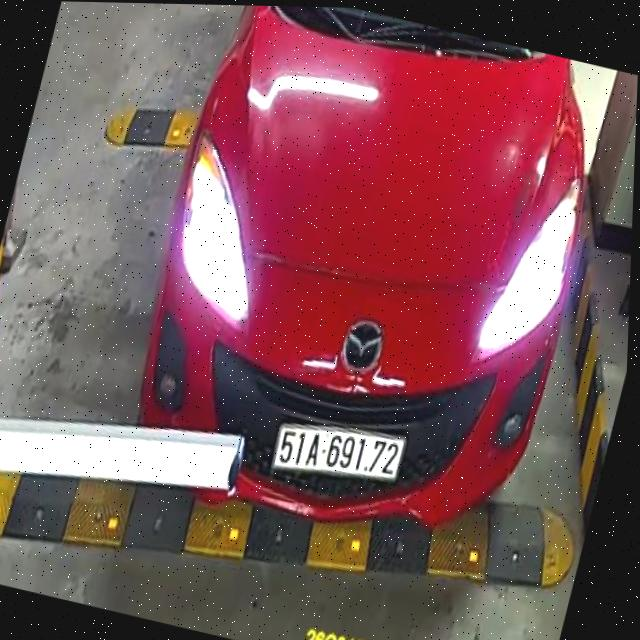car: (98, 3, 635, 575)
plate: (265, 415, 410, 503)
